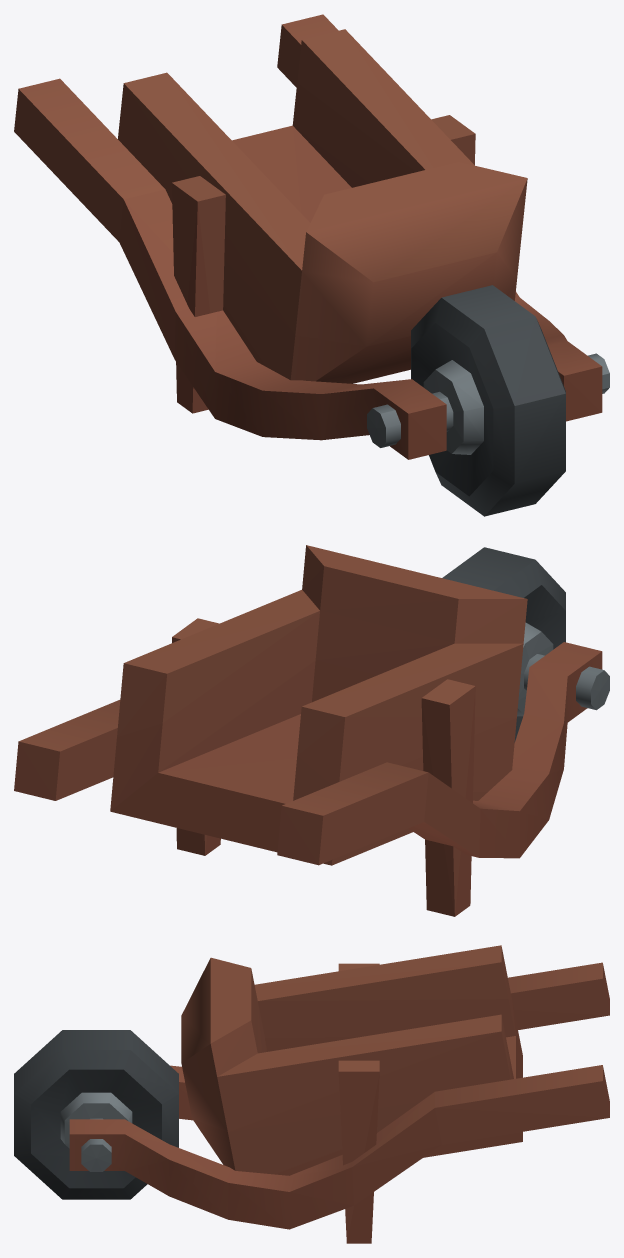
The model's file is wheelbarrow-8s9X3U8o.glb.
3 views of the same model, one above another, from view 1: azimuth 30°, elevation 25°; view 2: azimuth 150°, elevation 25°; view 3: azimuth 270°, elevation 25° (orthographic). The views are drawn at different scales.
Parts seen in each view (by area): view 1: wheelbarrow; view 2: wheelbarrow; view 3: wheelbarrow.
Boxes of the visible parts, <box> form: wheelbarrow: <box>14,14,609,516</box>; wheelbarrow: <box>14,545,609,916</box>; wheelbarrow: <box>14,945,609,1243</box>.
Bounding box in the file's own units: 0.238 × 0.1884 × 0.5057.
